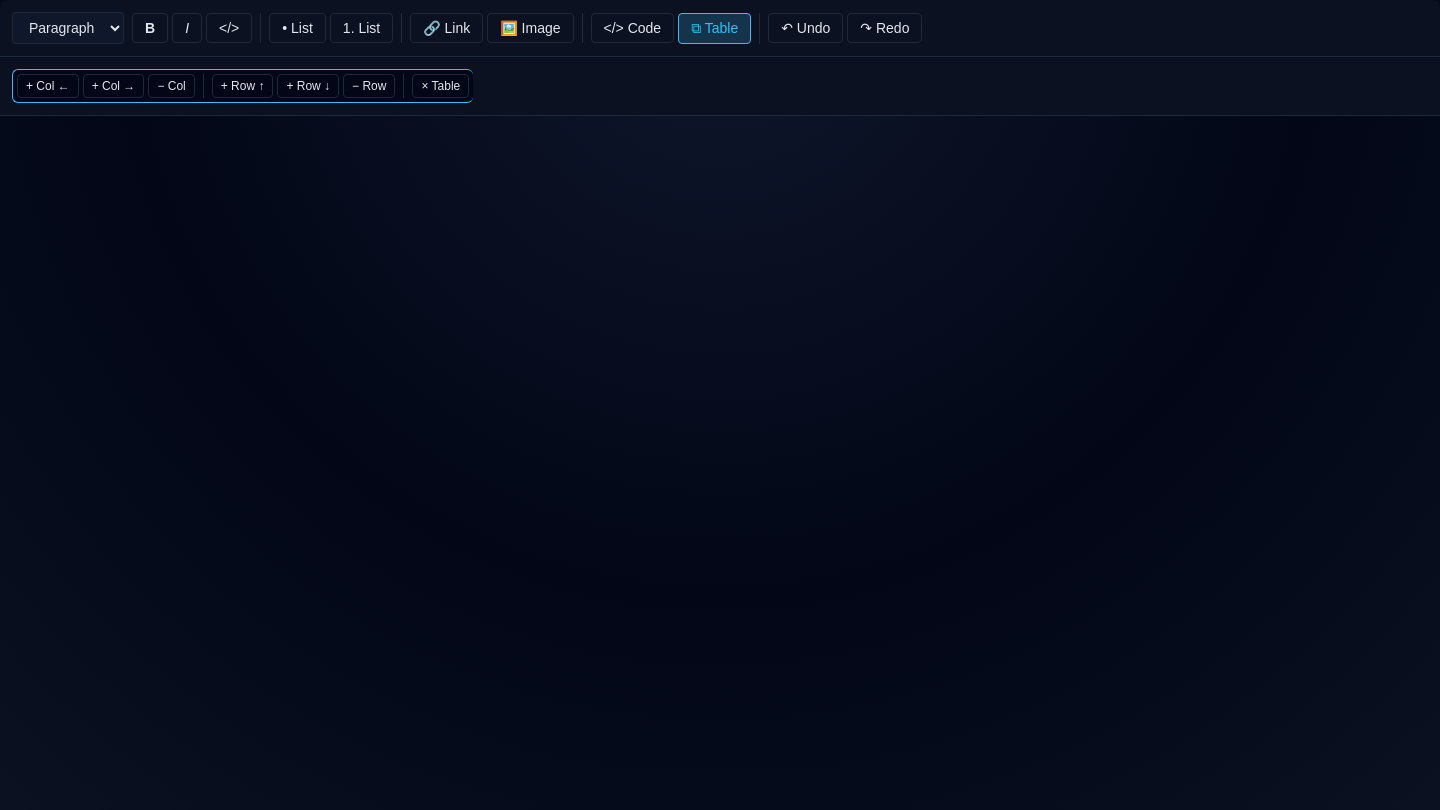
Scenario: EditorToolbar › opens image dialog when image button is clicked
Click the button titled "Insert Image" at (530, 28), box [487, 13, 574, 43]
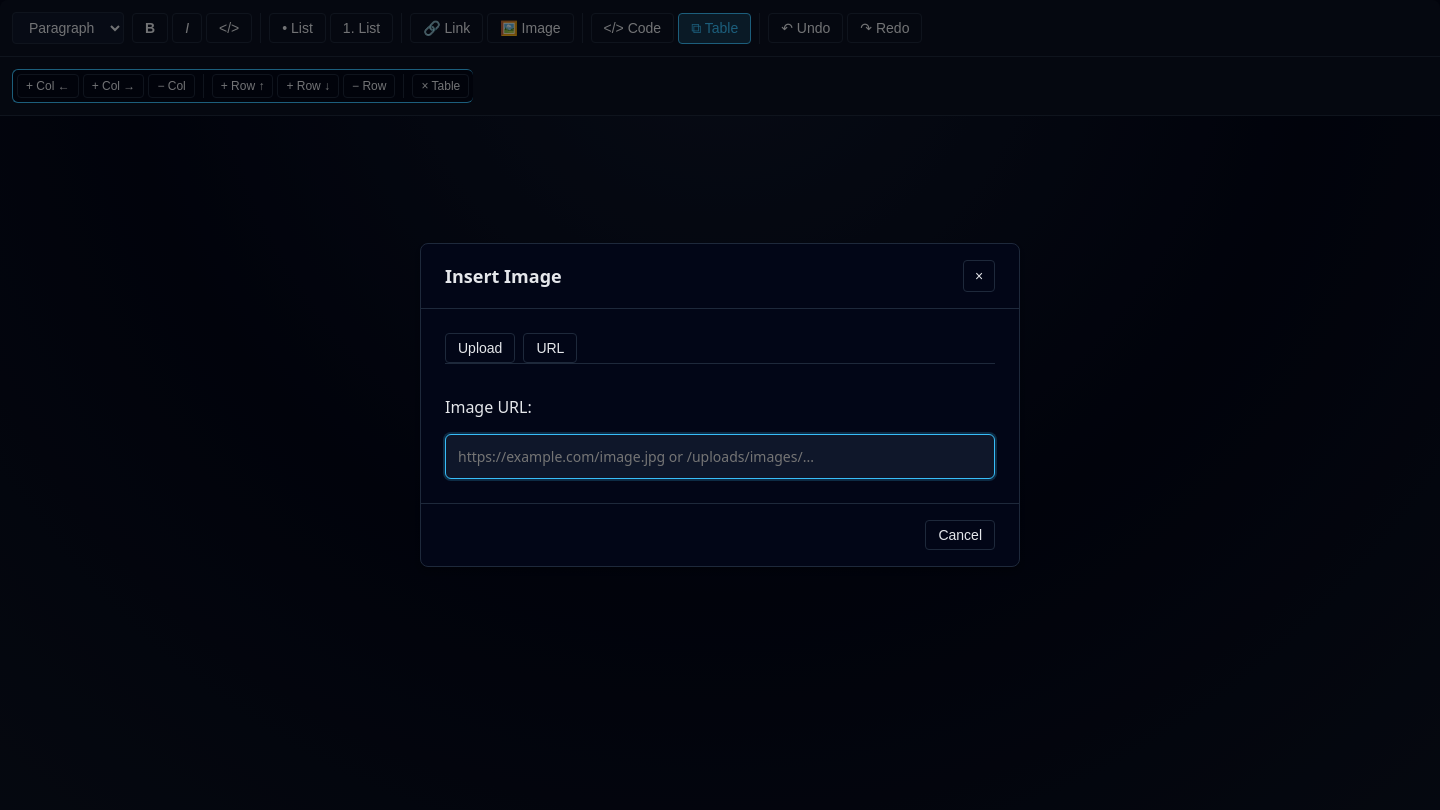
Expected: the heading "Insert Image" is shown, [445, 264, 562, 288]
